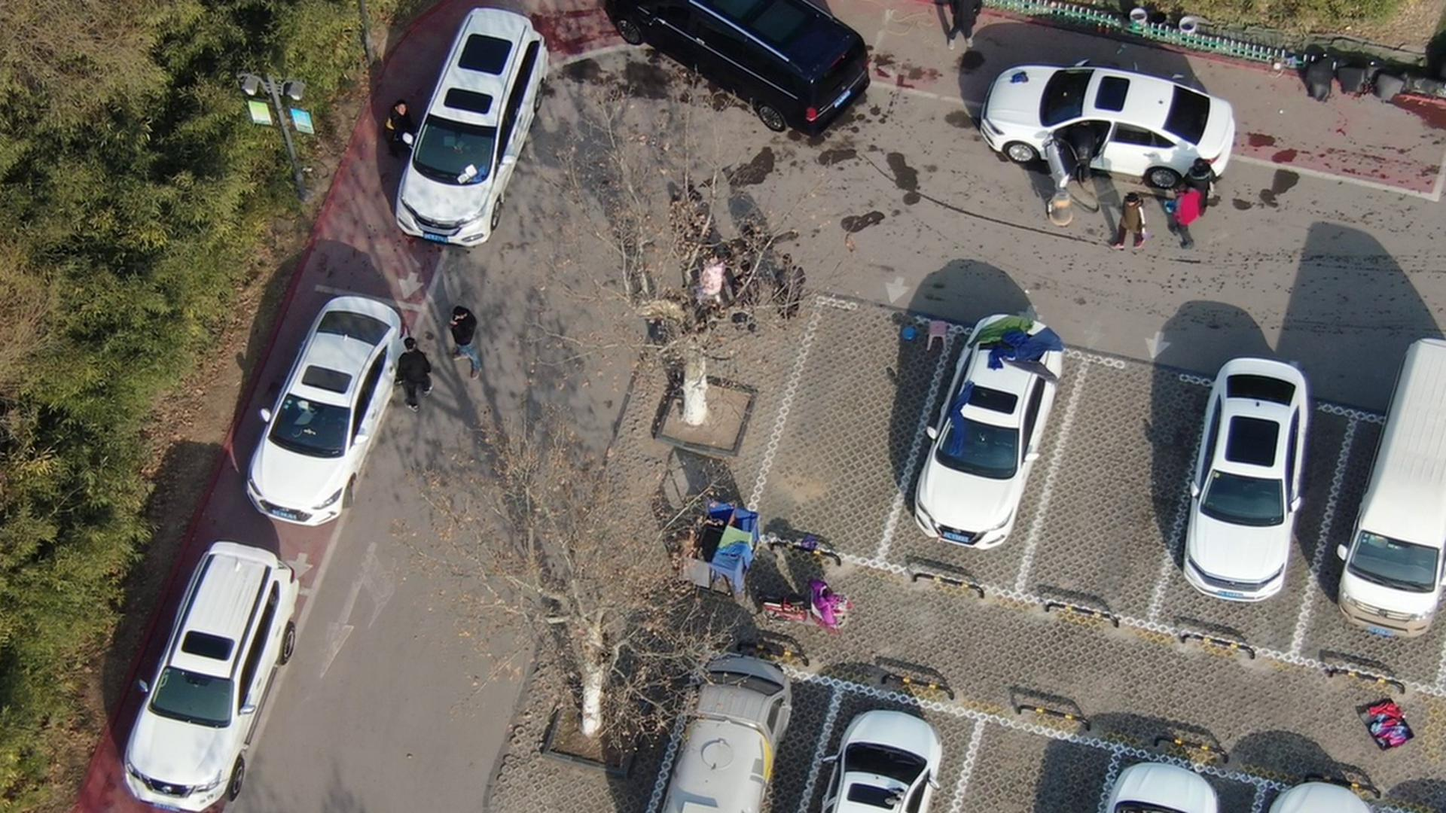human: (397, 328, 437, 419), (1112, 178, 1155, 257), (1064, 111, 1110, 184), (770, 250, 813, 324), (729, 254, 767, 334), (450, 297, 483, 377), (388, 88, 423, 157), (1168, 175, 1200, 250), (950, 1, 992, 55), (1195, 150, 1226, 214)
